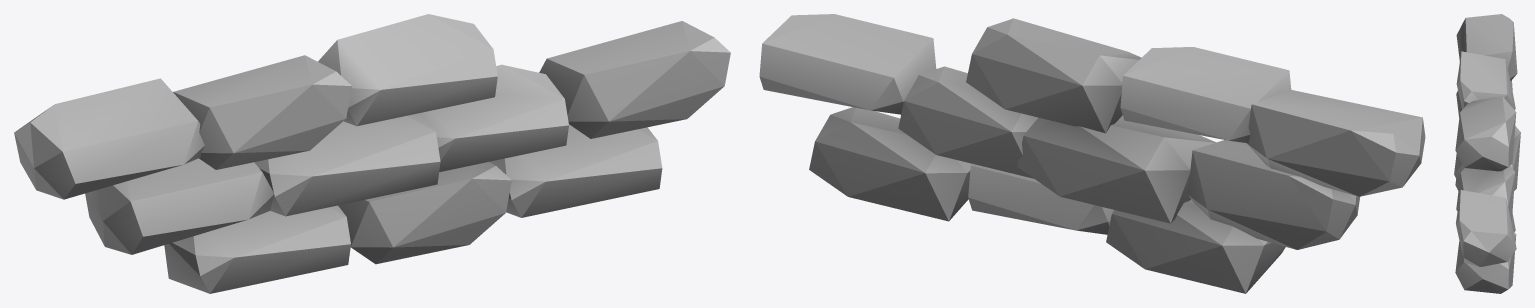
The model's file is stone_fence_005.glb.
The picture shows the model from 3 angles, left to right: view 1: azimuth 30°, elevation 25°; view 2: azimuth 150°, elevation 25°; view 3: azimuth 270°, elevation 25°; orthographic projection. The views are drawn at different scales.
Parts seen in each view (by area): view 1: stone_fence_005; view 2: stone_fence_005; view 3: stone_fence_005.
Boxes of the visible parts, x1,y1,x2,y2 form: stone_fence_005: [14, 14, 730, 293]; stone_fence_005: [759, 14, 1425, 293]; stone_fence_005: [1454, 14, 1520, 293].
Size of the model in its own units: 2.29 by 0.6683 by 0.338.
Materials: 1 (1 with a texture image).
